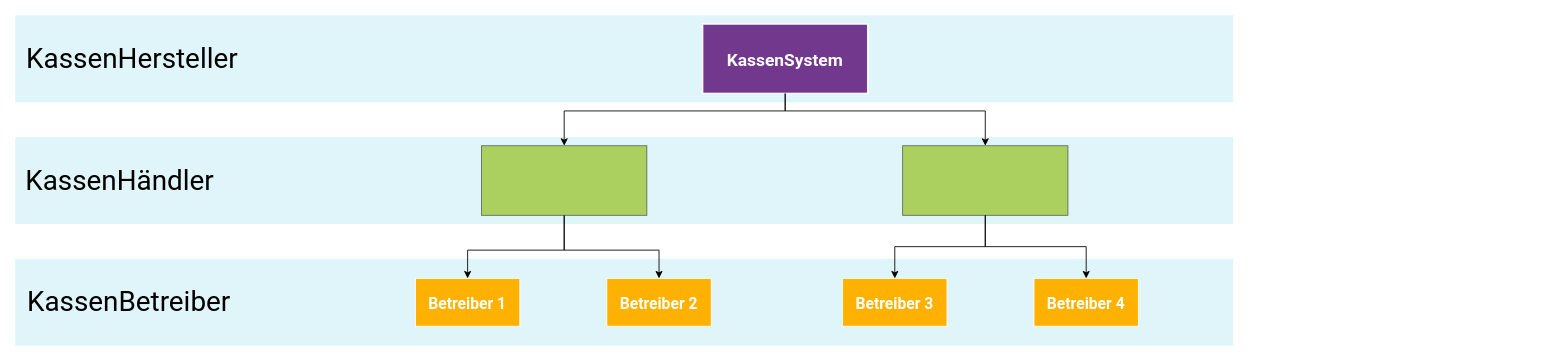
Image size: 1561x360. Some labels were removed from this diagram. Here are the shapes that lost their labels. From the top down, the centre of each, then its label:
(564,180): Händler 1
(985,180): Händler 2
